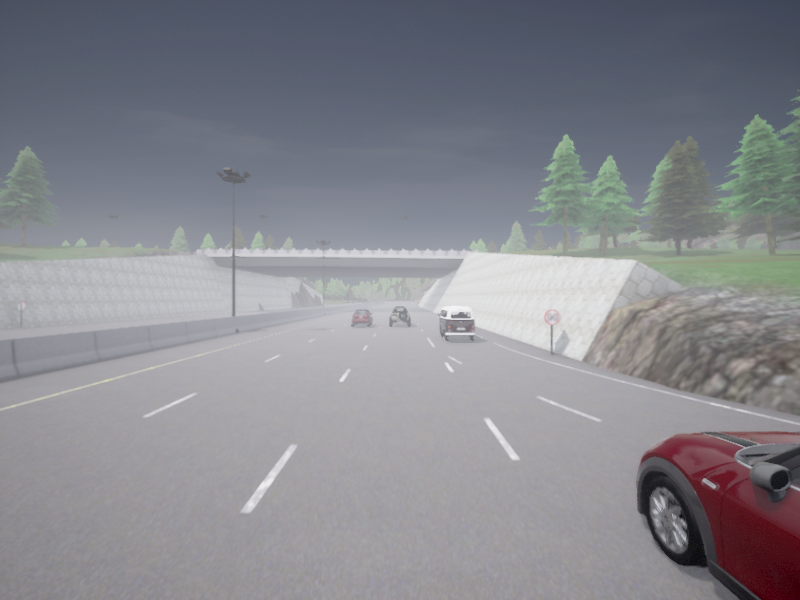vehicle: (636, 431, 799, 599), (437, 306, 474, 339), (390, 306, 409, 325), (352, 309, 372, 325)
